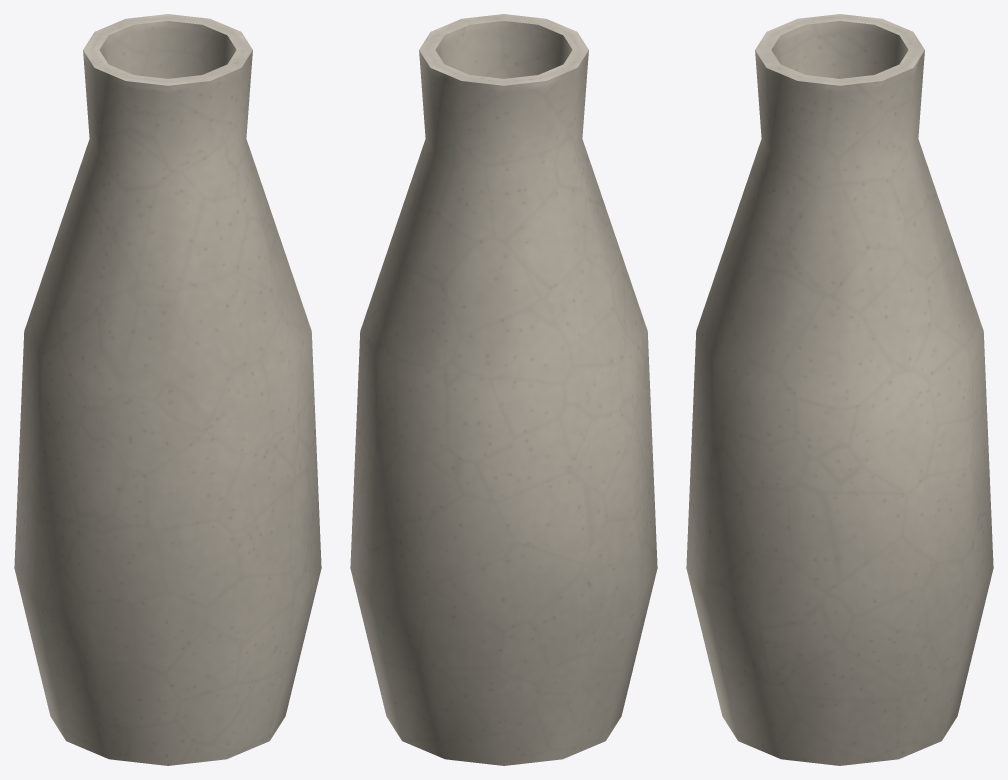
Rendered from vase.fbx.
3 renders of one model, left to right at view 1: azimuth 30°, elevation 25°; view 2: azimuth 150°, elevation 25°; view 3: azimuth 270°, elevation 25°, orthographic.
Visible parts, largest first — view 1: vase; view 2: vase; view 3: vase.
Boxes of the visible parts, x1,y1,x2,y2 form: vase: (14,14,321,765); vase: (350,14,657,765); vase: (686,14,993,765).
Size of the model in its own units: 0.094 by 0.225 by 0.094.
Materials: 1 (1 with a texture image).
